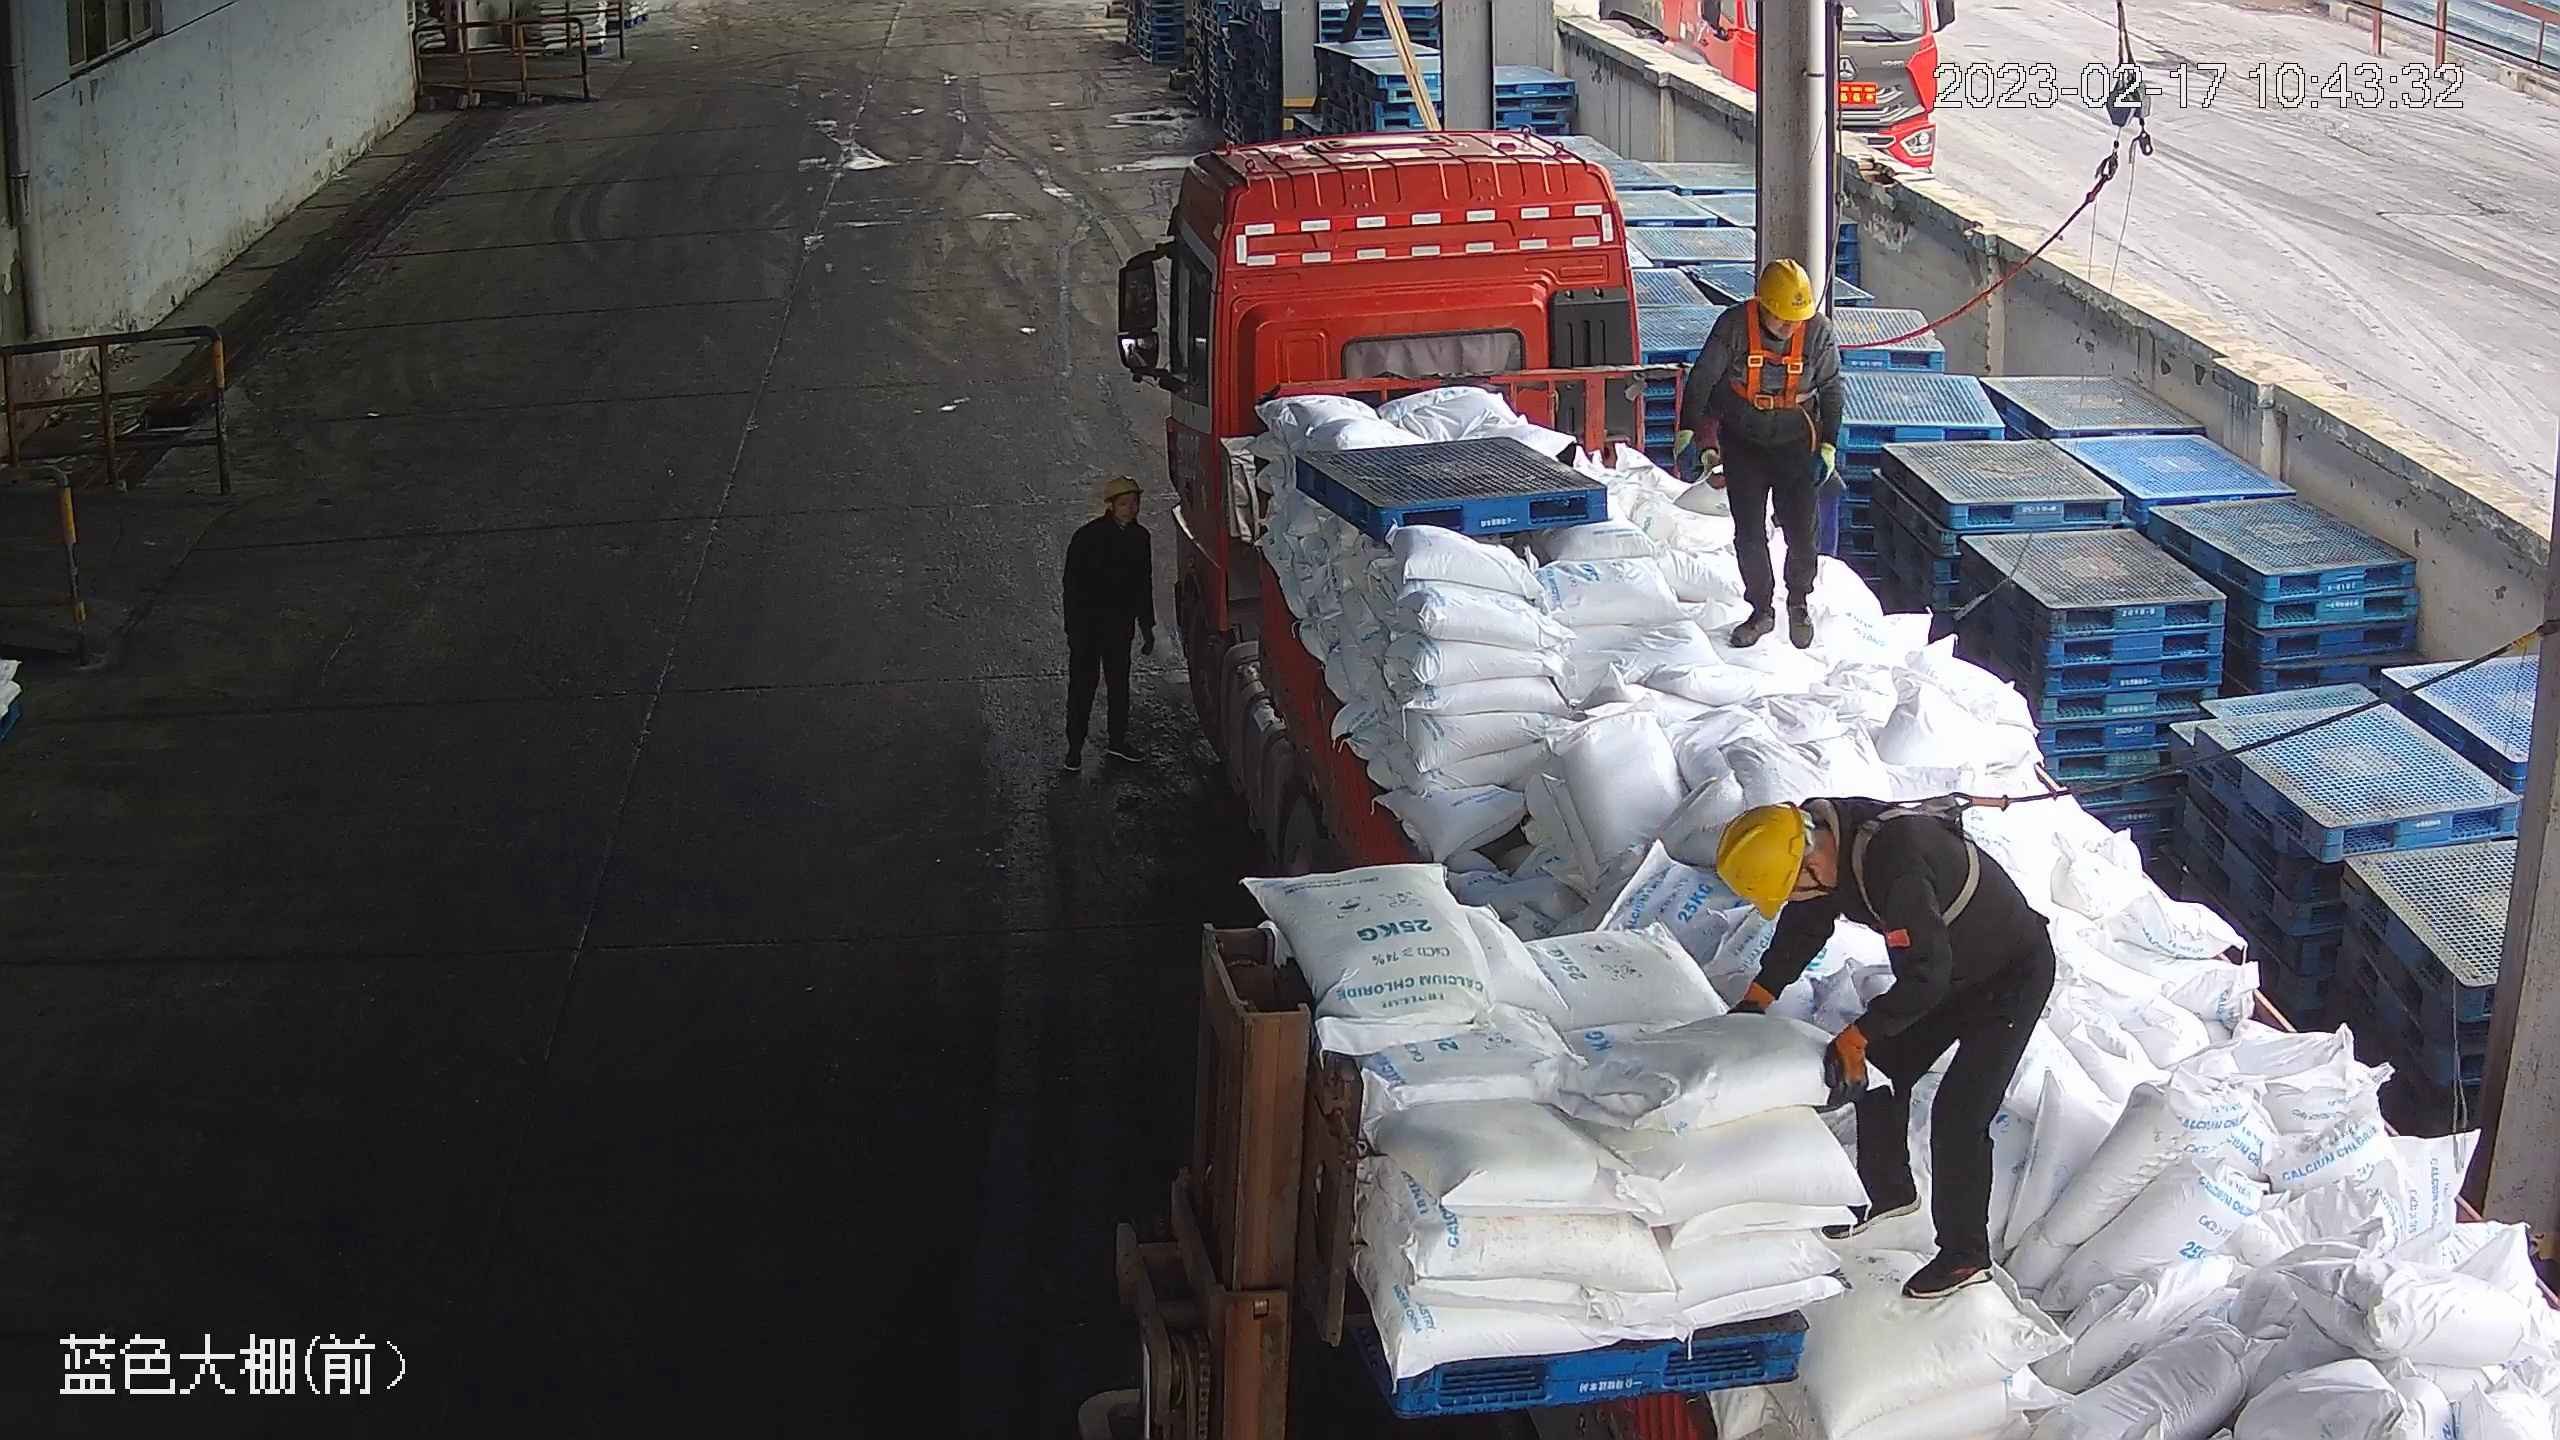belt: (1842, 786, 1992, 928), (1728, 305, 1827, 411)
head: (1709, 788, 1928, 937), (1709, 253, 1836, 356), (1071, 474, 1154, 552)
helmet: (1713, 800, 1807, 917), (1754, 255, 1817, 321), (1099, 472, 1142, 505)
people: (1715, 773, 2054, 1303), (1686, 256, 1844, 654), (1056, 472, 1165, 777)
truck: (1137, 119, 2552, 1440)
